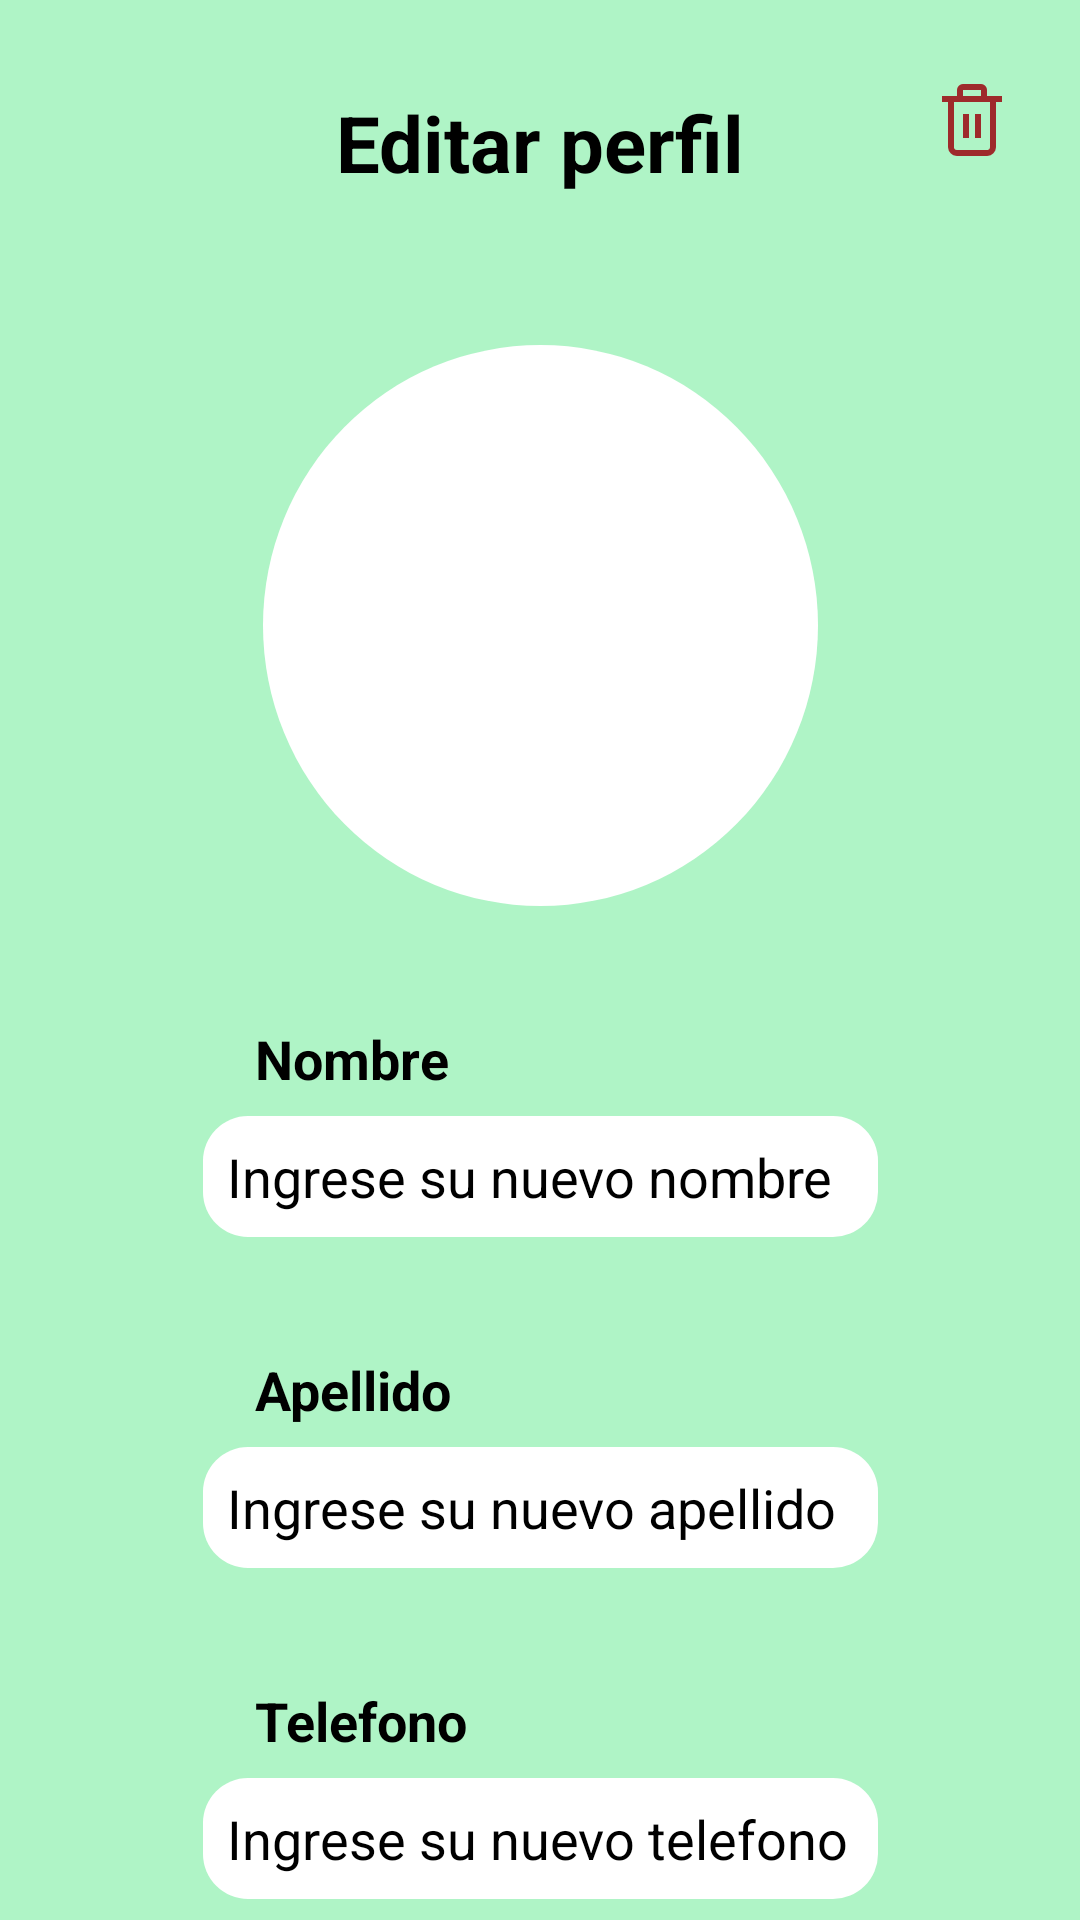

Point at icon controls on the screen. Image size 1080×1920, points as (x=x, y=y).
eliminar cuenta: (x=972, y=120)
